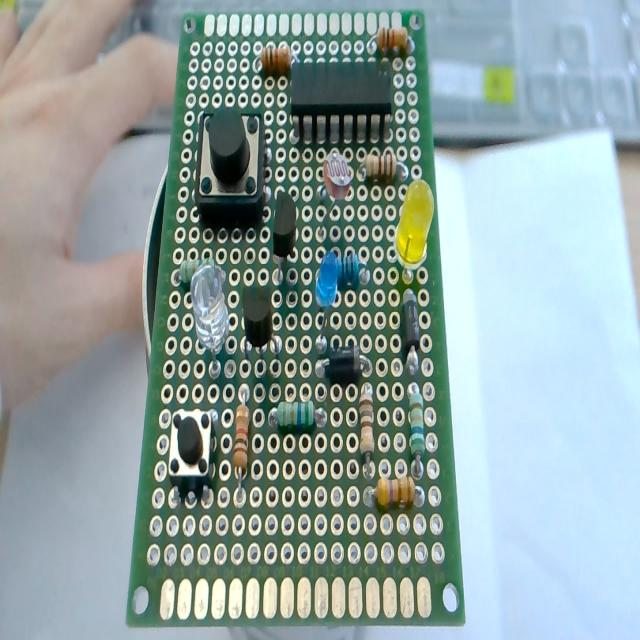IC: (287, 52, 397, 144)
cds: (310, 145, 352, 239)
diode: (397, 279, 423, 375), (314, 341, 374, 378)
led: (384, 178, 434, 284), (183, 272, 231, 382), (306, 252, 340, 344)
resistor: (402, 379, 428, 473), (233, 387, 256, 492), (265, 396, 325, 436), (356, 149, 408, 192), (356, 385, 376, 488), (368, 468, 422, 504), (366, 20, 418, 56), (250, 44, 300, 74)
switch: (192, 98, 266, 224), (165, 399, 218, 496)
transistor: (234, 277, 288, 385), (267, 189, 301, 288)
